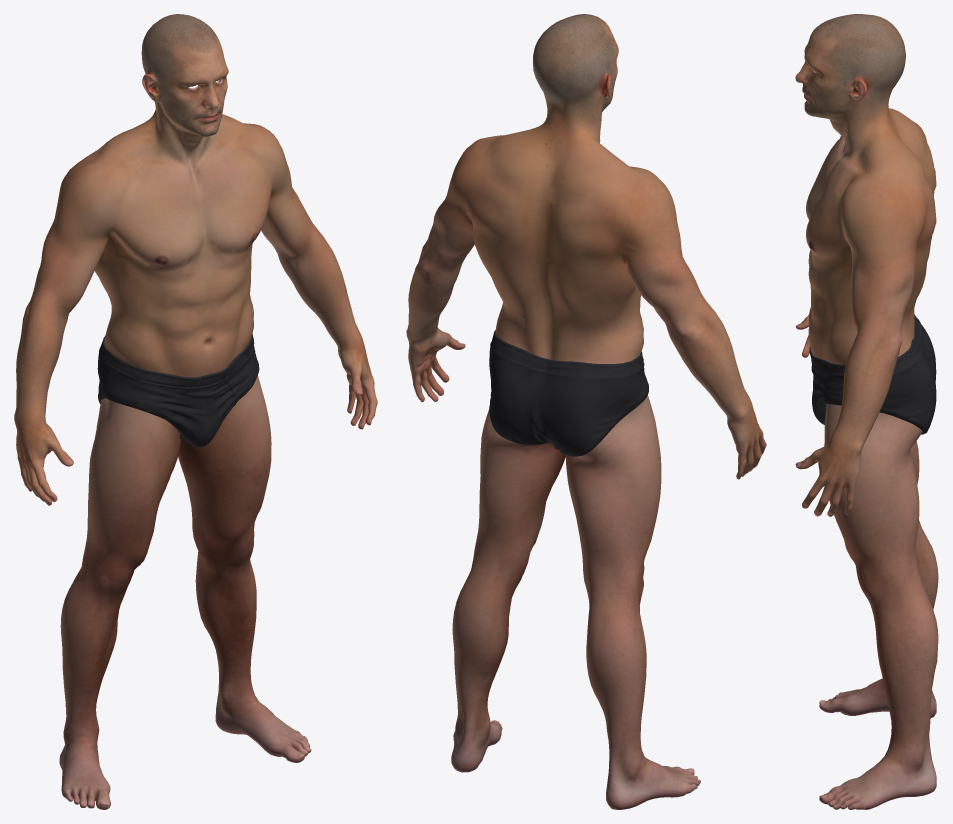
Rendered from skin-lite.glb.
3 renders of one model, left to right at view 1: azimuth 30°, elevation 25°; view 2: azimuth 150°, elevation 25°; view 3: azimuth 270°, elevation 25°, orthographic.
Parts seen in each view (by area): view 1: Body_m, Underwear_m; view 2: Body_m, Underwear_m; view 3: Body_m, Underwear_m.
Boxes of the visible parts, bbox=[...] form: Body_m: bbox=[14, 14, 377, 809]; Underwear_m: bbox=[97, 334, 259, 447]; Body_m: bbox=[406, 14, 766, 809]; Underwear_m: bbox=[489, 330, 648, 456]; Body_m: bbox=[795, 14, 938, 809]; Underwear_m: bbox=[809, 314, 936, 434].
Size of the model in its own units: 0.8592 by 1.8 by 0.3151.
Materials: 2 (1 with a texture image).
